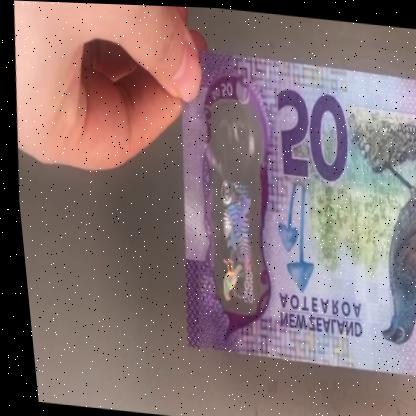50B: (200, 108, 267, 309)
